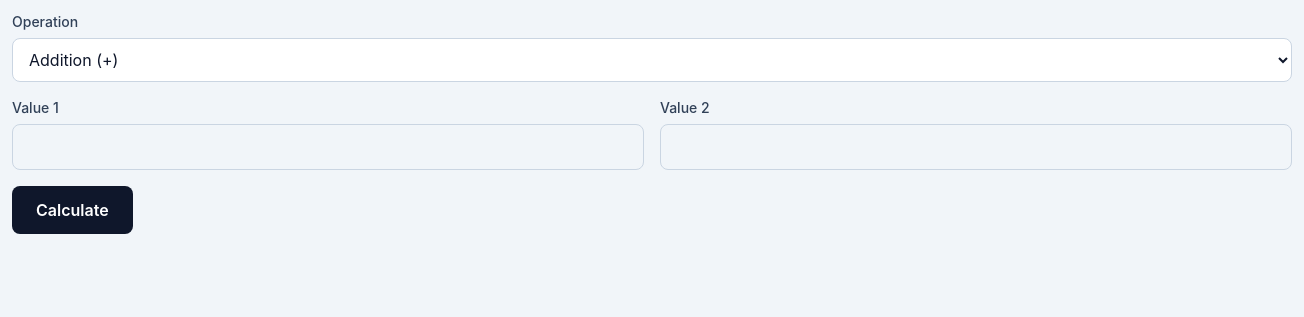
calculation › clears a stale calculation error when an input changes
Select "Division (÷)" in the dropdown labelled "Operation" at (652, 60), box [12,38,1292,82]
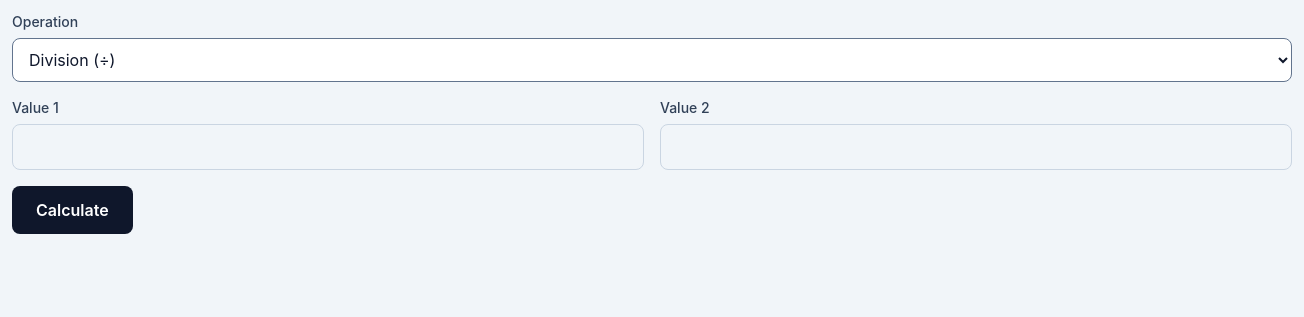
Type "1" into the field labelled "Value 1".
click(328, 147); type("1")  # box [12,124,644,170]
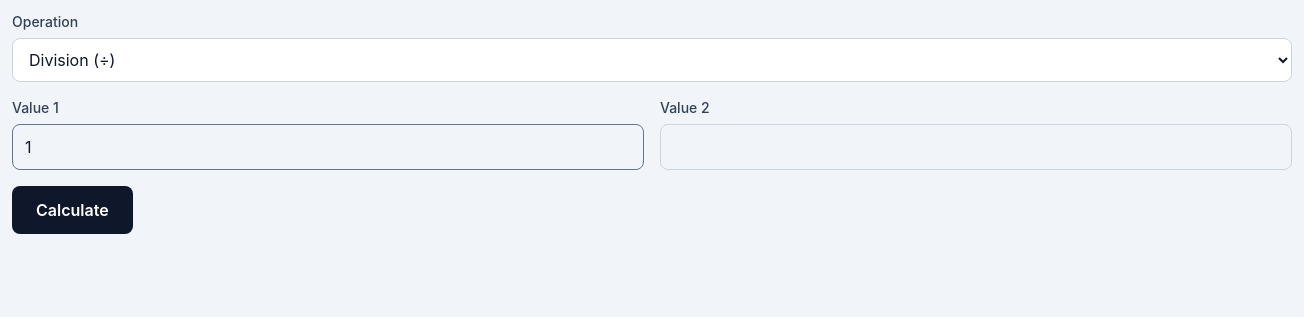
Type "0" into the field labelled "Value 2".
click(976, 147); type("0")  # box [660,124,1292,170]
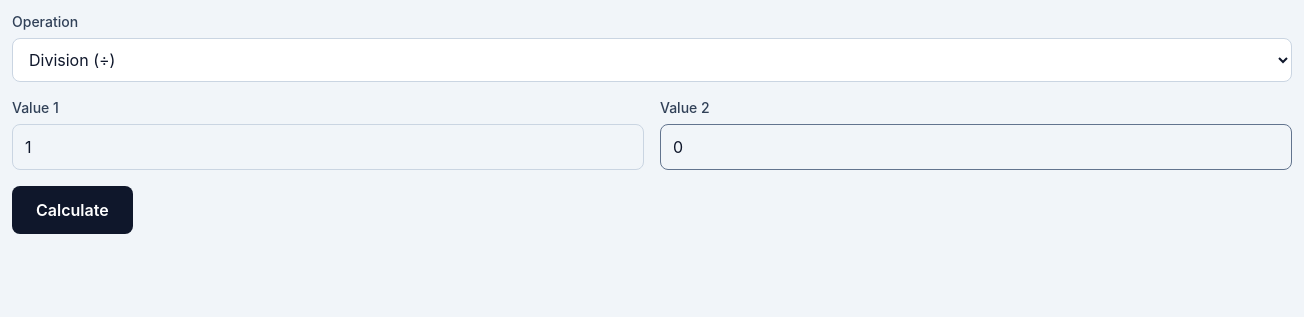
Click the button "Calculate".
click(72, 210)  # box [12,186,133,234]
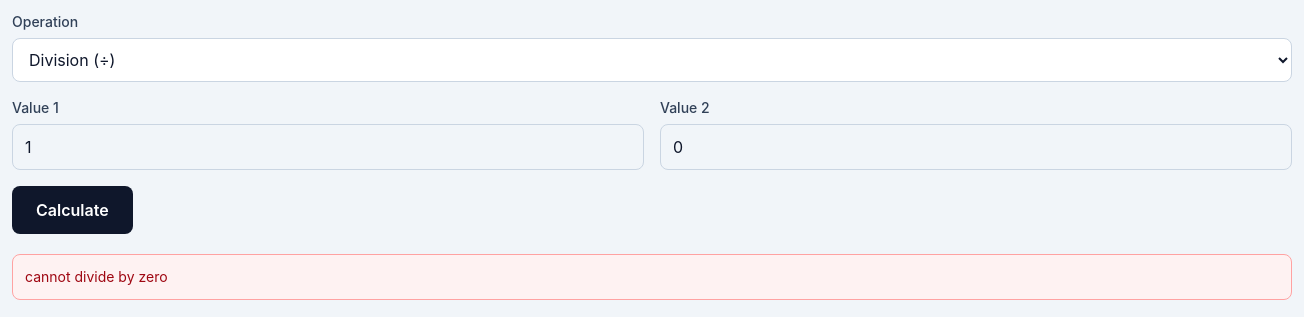
Expected: the message reads "cannot divide by zero", [25,268,168,285]
Type "2" into the field labelled "Value 1".
click(328, 147); type("2")  # box [12,124,644,170]
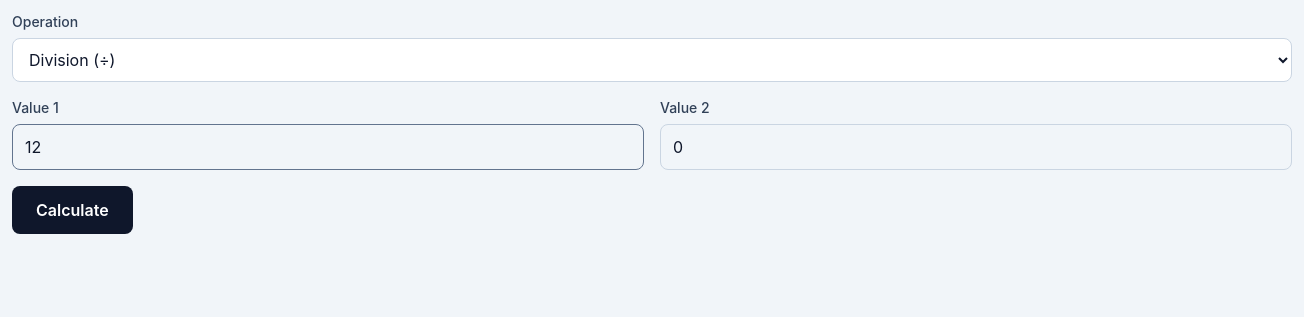
Expected: the message "cannot divide by zero" is gone
